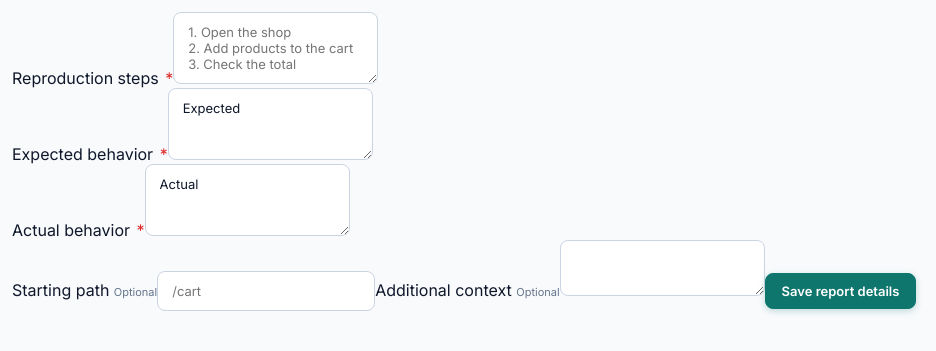
Test: keeps an incomplete clarification on screen until required report facts are supplied
This screenshot has width=936, height=351.
Click the button "Save report details" at (840, 291), box [765, 273, 916, 309]
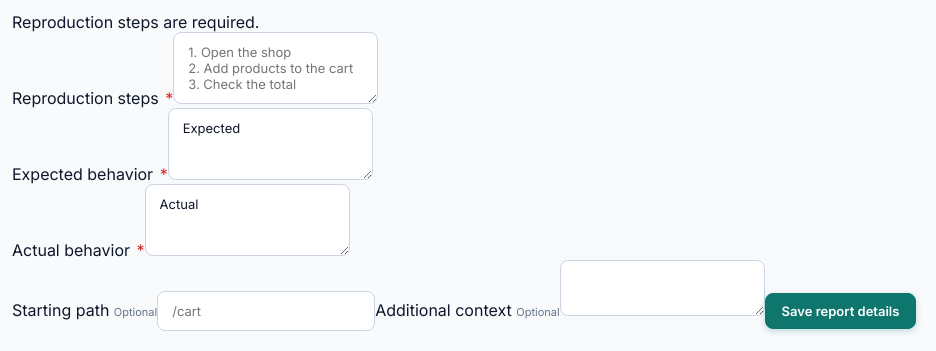
Result: the message shows "Reproduction steps" at [12, 12, 260, 32]
